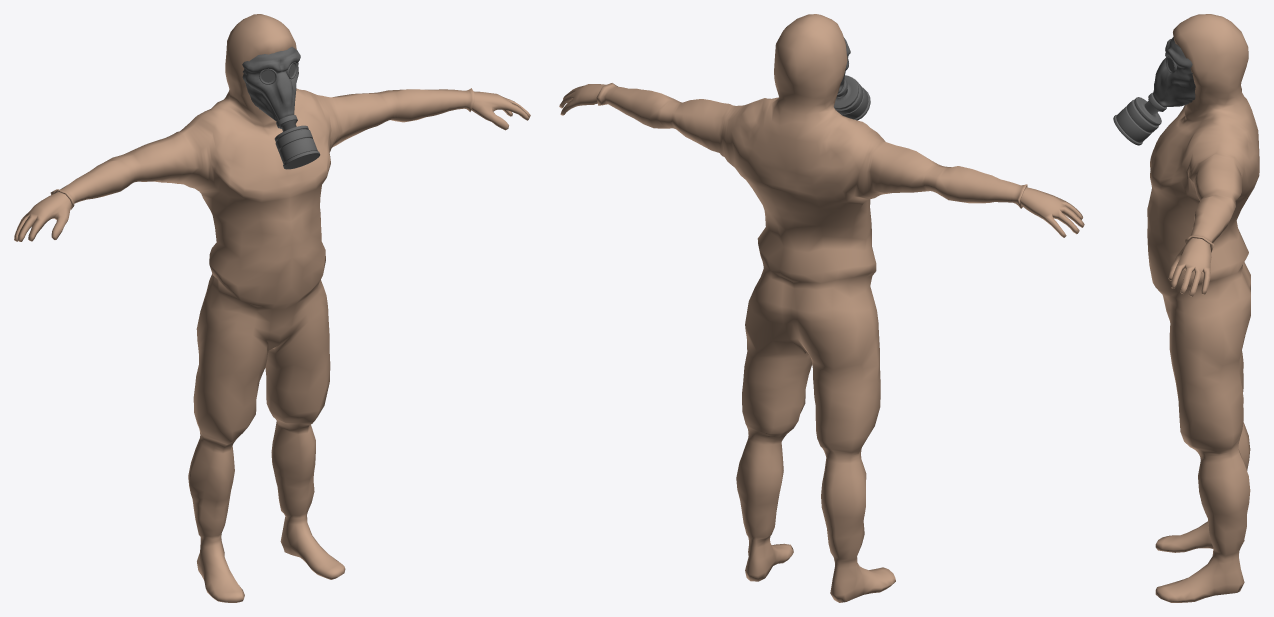
File: Dima_01.fbx
3 views of the same model, side by side, from view 1: azimuth 30°, elevation 25°; view 2: azimuth 150°, elevation 25°; view 3: azimuth 270°, elevation 25° (orthographic).
Parts seen in each view (by area): view 1: Dima_MeshCorrection, pCylinder3; view 2: Dima_MeshCorrection, pCylinder3; view 3: Dima_MeshCorrection, pCylinder3.
Part boxes in pixels (left/top/right/bottom): Dima_MeshCorrection: left=14, top=14, right=530, bottom=602; pCylinder3: left=242, top=46, right=320, bottom=169; Dima_MeshCorrection: left=559, top=14, right=1084, bottom=602; pCylinder3: left=834, top=38, right=870, bottom=120; Dima_MeshCorrection: left=1147, top=14, right=1259, bottom=602; pCylinder3: left=1113, top=37, right=1195, bottom=145.
Size of the model in its own units: 178 by 185 by 44.04.
